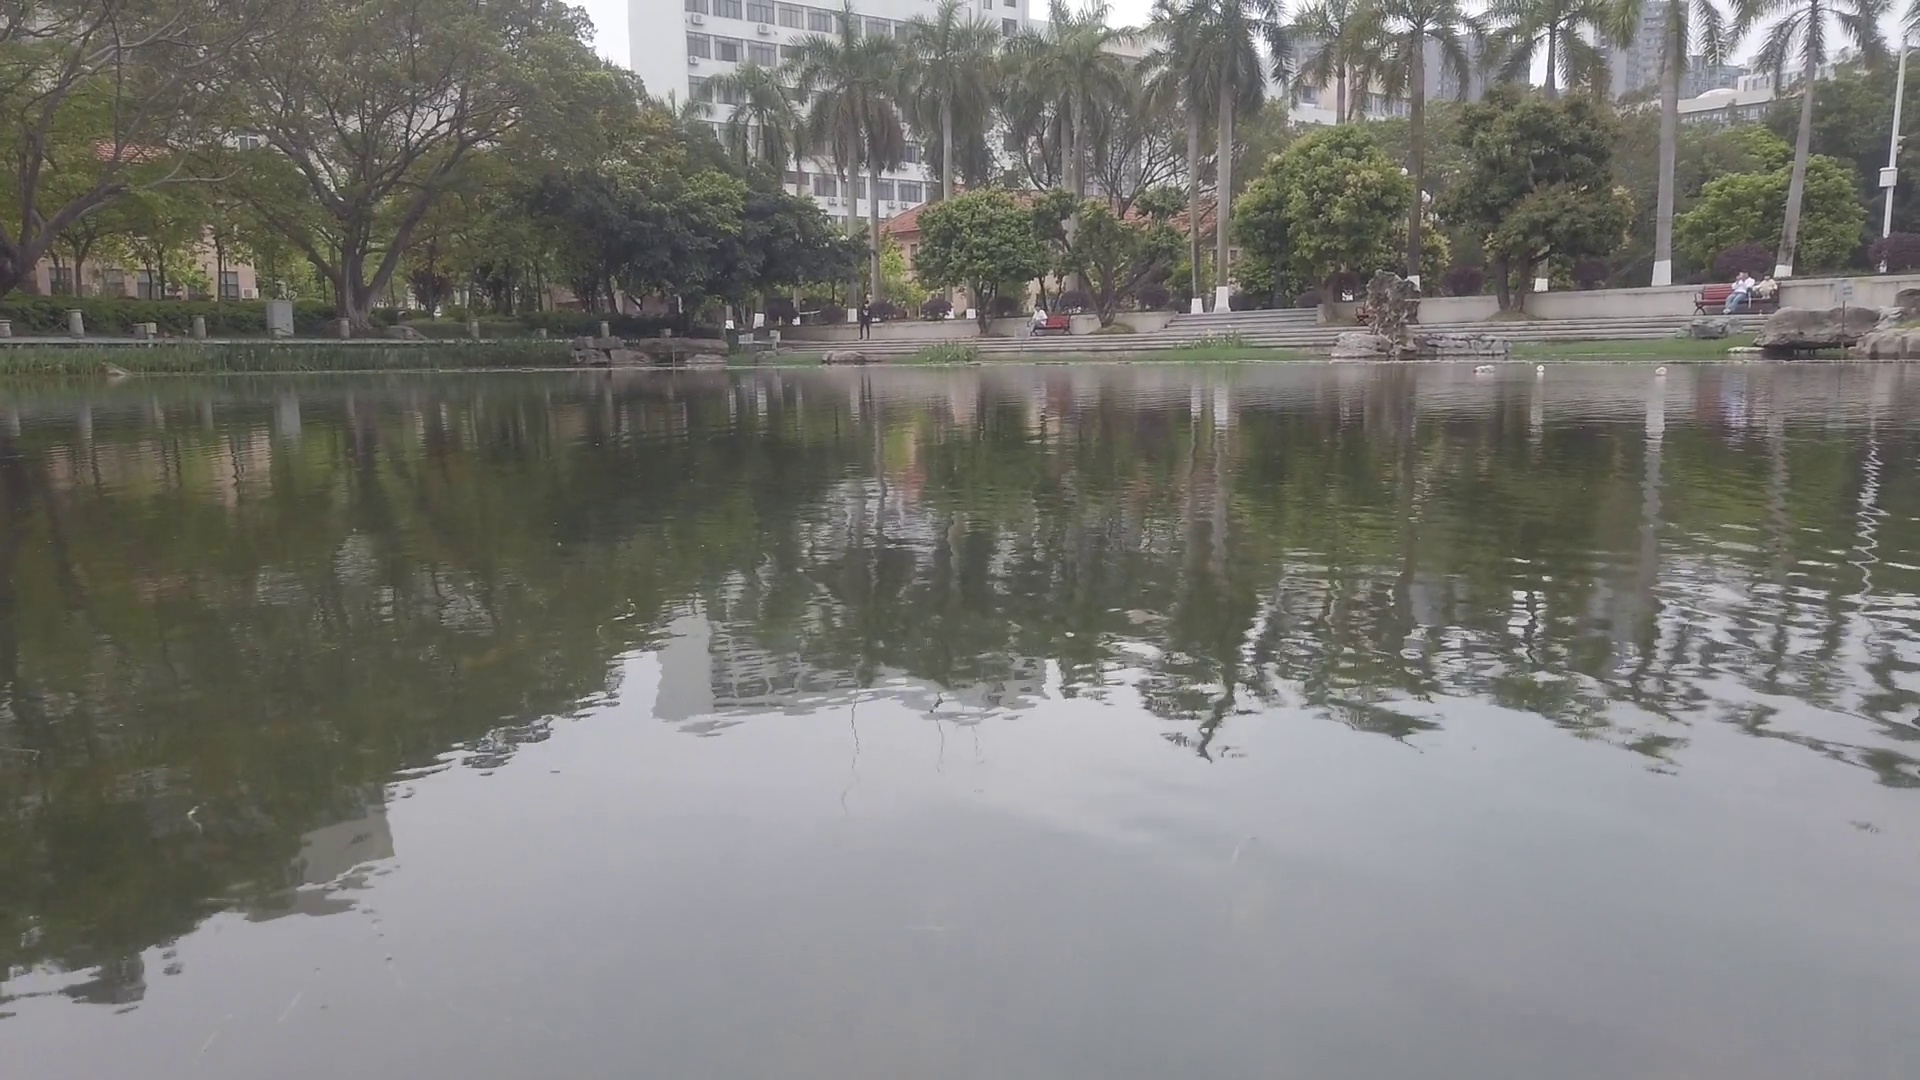bottle: (1654, 367, 1669, 377), (1474, 367, 1495, 373), (1536, 364, 1548, 372)
